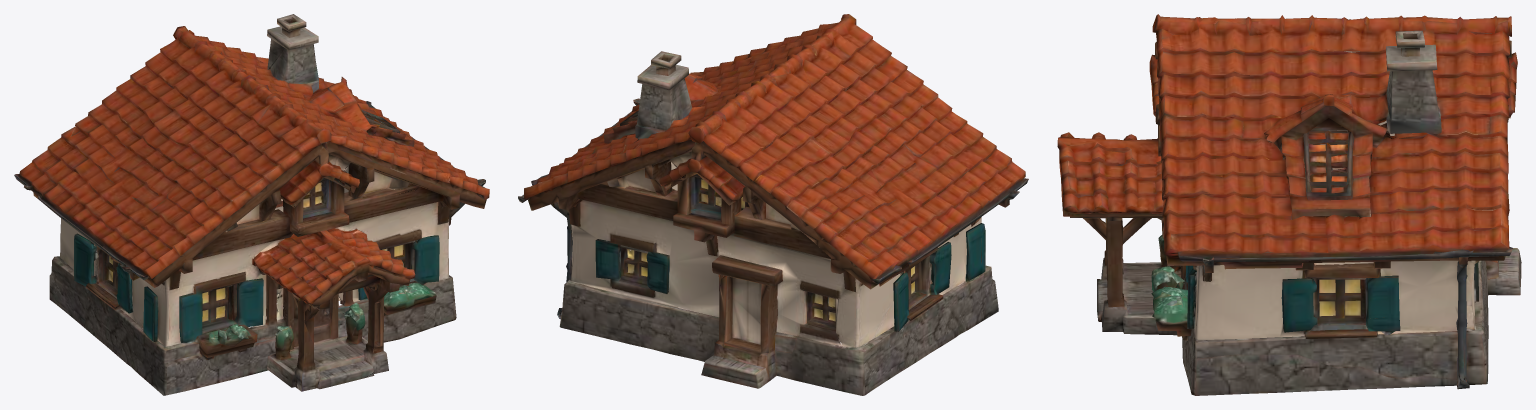
3 views of the same model, side by side, from view 1: azimuth 30°, elevation 25°; view 2: azimuth 150°, elevation 25°; view 3: azimuth 270°, elevation 25° (orthographic). The views are drawn at different scales.
Parts seen in each view (by area): view 1: alpine__hotel_1__native_mobile; view 2: alpine__hotel_1__native_mobile; view 3: alpine__hotel_1__native_mobile.
Part boxes in pixels (left/top/right/bottom): alpine__hotel_1__native_mobile: left=14, top=14, right=489, bottom=395; alpine__hotel_1__native_mobile: left=518, top=14, right=1028, bottom=395; alpine__hotel_1__native_mobile: left=1057, top=14, right=1521, bottom=395.
Size of the model in its own units: 1 by 0.6697 by 0.8918.
Materials: 1 (1 with a texture image).
